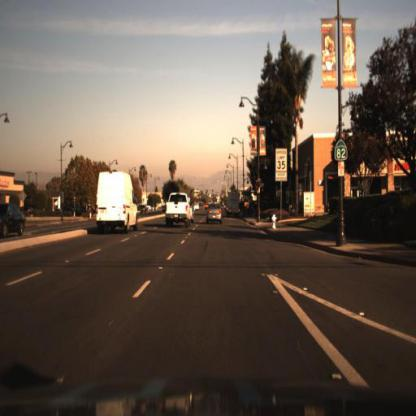car: (90, 158, 141, 238), (2, 203, 29, 242), (164, 196, 195, 227), (224, 187, 244, 221), (202, 202, 227, 223)
truck: (93, 168, 138, 238), (226, 193, 242, 218)
